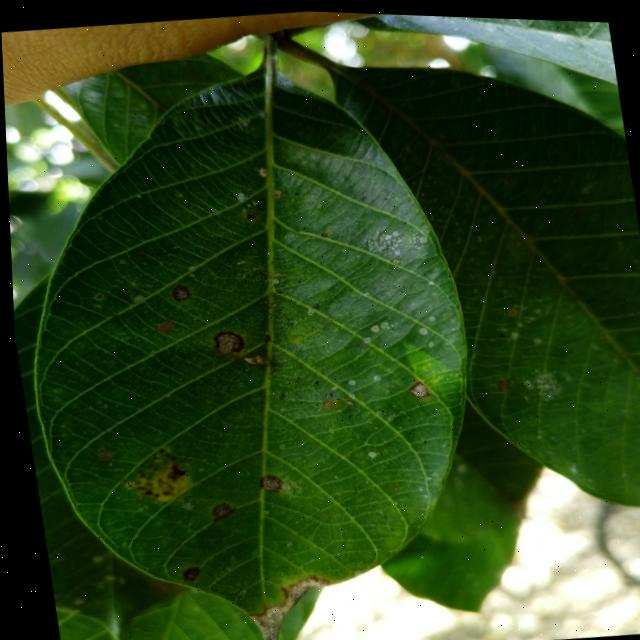Colletotrichum: (208, 326, 243, 355), (254, 471, 278, 492), (167, 281, 189, 301), (206, 500, 229, 519), (404, 377, 425, 395), (176, 564, 195, 581), (244, 210, 255, 218)
Leaf-Blight: (237, 571, 333, 640)
